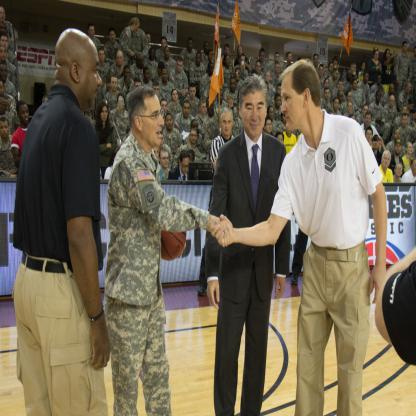Ball: (161, 232, 185, 262)
